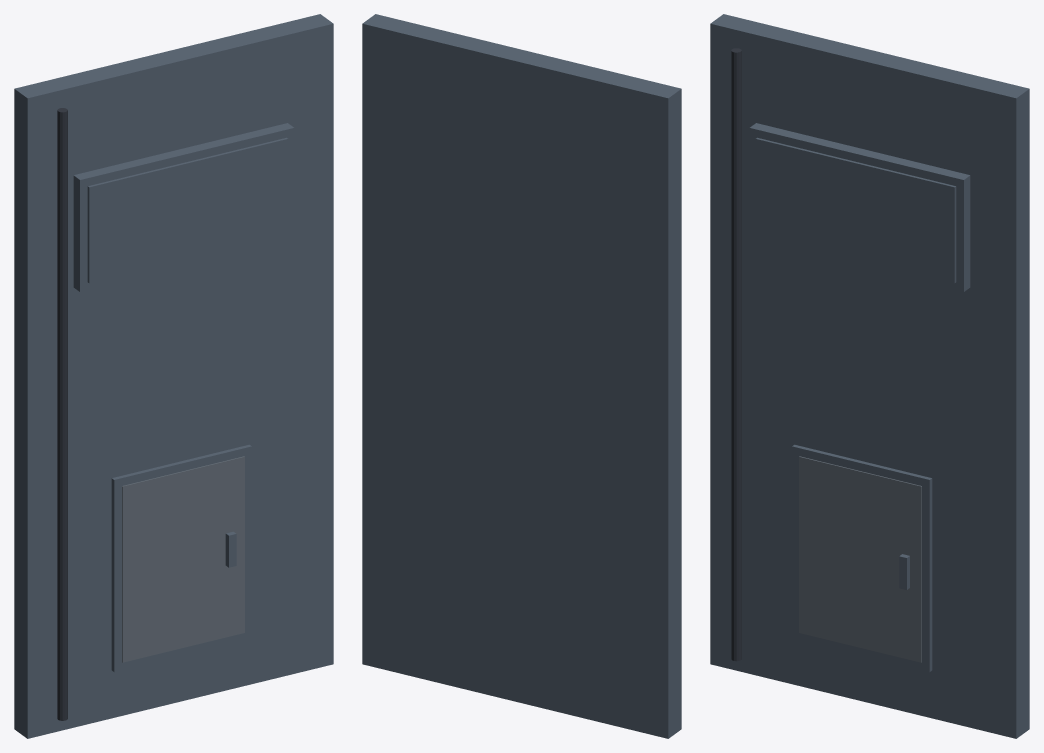
The model's file is Lab_Wall_B.fbx.
3 renders of one model, left to right at view 1: azimuth 30°, elevation 25°; view 2: azimuth 150°, elevation 25°; view 3: azimuth 330°, elevation 25°, orthographic.
Parts seen in each view (by area): view 1: Lab_Wall_B; view 2: Lab_Wall_B; view 3: Lab_Wall_B.
Part boxes in pixels (<box>): Lab_Wall_B: <box>14,14,333,738</box>; Lab_Wall_B: <box>362,14,681,738</box>; Lab_Wall_B: <box>710,14,1029,738</box>.
Bounding box in the file's own units: 4 × 8 × 0.485.
